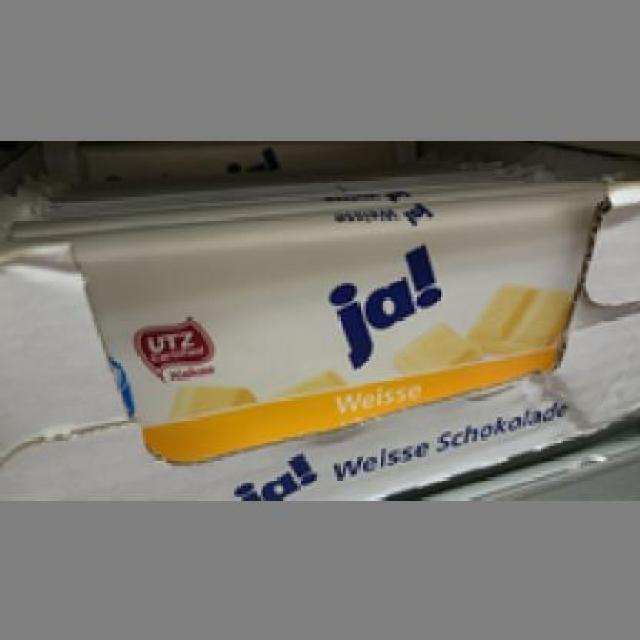Chocolate: (6, 192, 620, 458)
